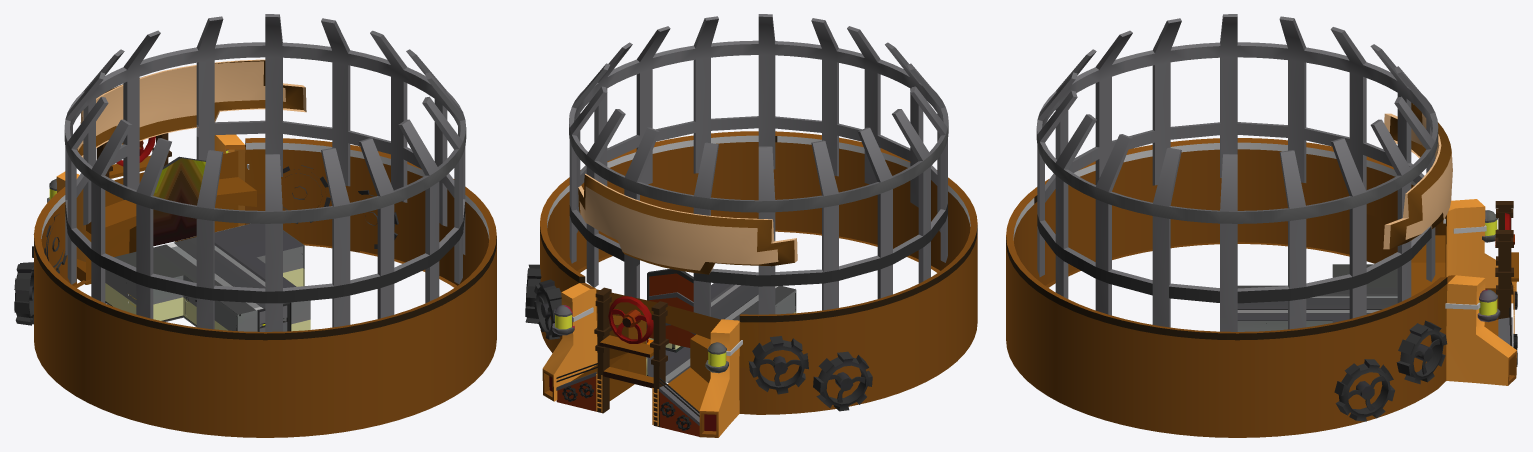
The model's file is MenuArena.fbx.
3 views of the same model, side by side, from view 1: azimuth 30°, elevation 25°; view 2: azimuth 150°, elevation 25°; view 3: azimuth 270°, elevation 25° (orthographic). The views are drawn at different scales.
Parts seen in each view (by area): view 1: arena, teto, portaria, parede, portao.001, portao; view 2: arena, portaria, portao.001, teto, piso, parede; view 3: arena, portaria, teto, parede.
Boxes of the visible parts, bbox=[...] form: arena: bbox=[14, 14, 496, 437]; teto: bbox=[114, 223, 303, 314]; portaria: bbox=[77, 133, 256, 284]; parede: bbox=[105, 225, 310, 331]; portao.001: bbox=[153, 156, 205, 246]; portao: bbox=[257, 302, 291, 331]; arena: bbox=[525, 14, 977, 437]; portaria: bbox=[556, 287, 720, 436]; portao.001: bbox=[646, 269, 695, 347]; teto: bbox=[711, 283, 795, 320]; piso: bbox=[647, 347, 690, 382]; parede: bbox=[646, 283, 796, 375]; arena: bbox=[1006, 14, 1516, 437]; portaria: bbox=[1411, 201, 1518, 366]; teto: bbox=[1237, 264, 1397, 322]; parede: bbox=[1237, 320, 1332, 331].
Bounding box in the file's own units: 4820 × 3007 × 5340.
